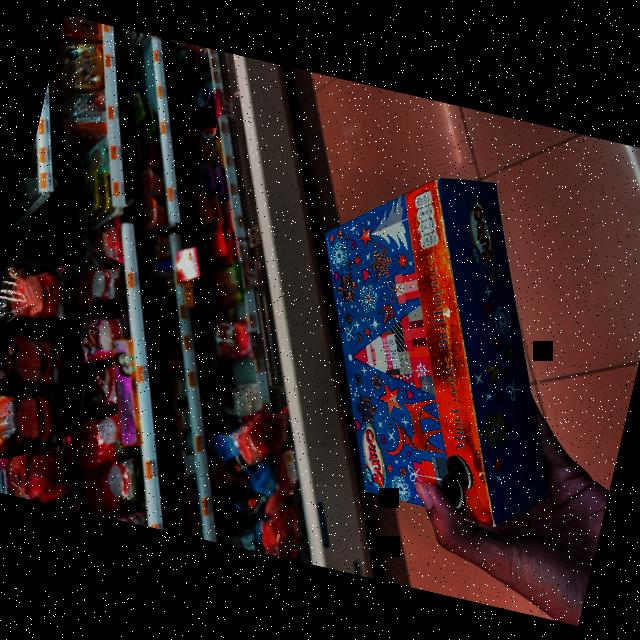cardboard_box: (256, 146, 618, 544)
